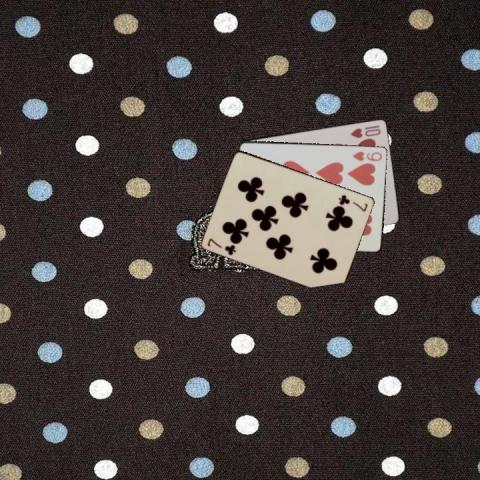10h: (347, 122, 382, 139)
7c: (336, 191, 369, 213), (205, 235, 237, 257)
9h: (350, 148, 384, 162)
